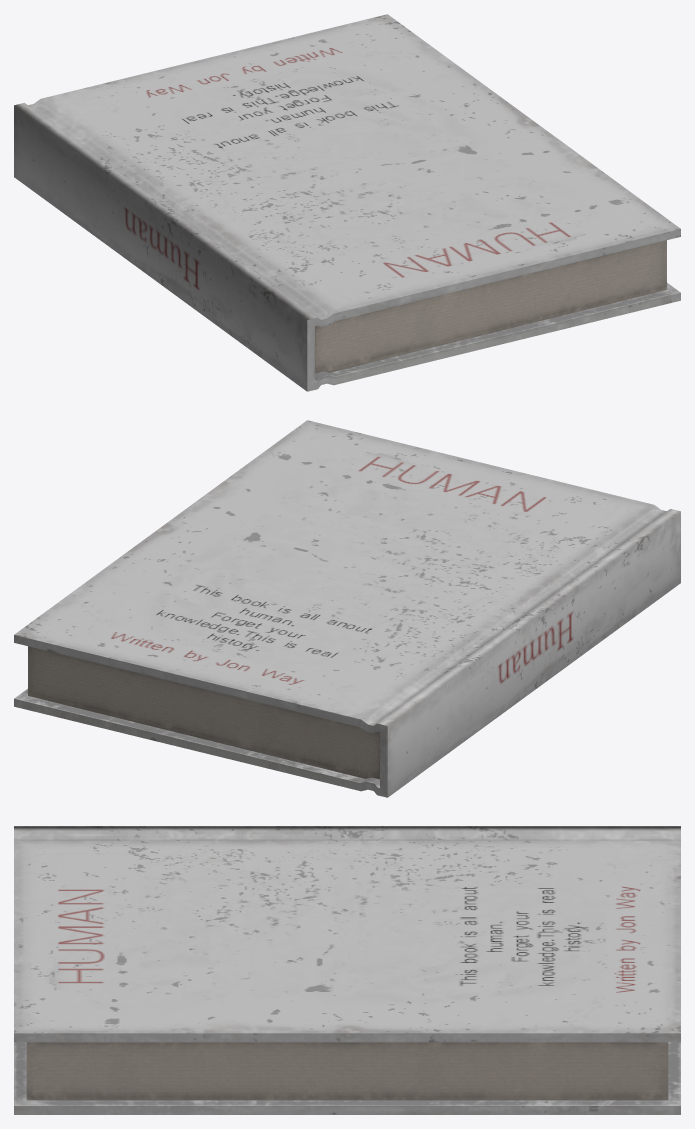
The model's file is SM_Book.fbx.
The picture shows the model from 3 angles, top to bottom: view 1: azimuth 30°, elevation 25°; view 2: azimuth 150°, elevation 25°; view 3: azimuth 270°, elevation 25°; orthographic projection. The views are drawn at different scales.
Visible parts, largest first — view 1: SM_Book_LOD0; view 2: SM_Book_LOD0; view 3: SM_Book_LOD0.
Part boxes in pixels (x1=…): SM_Book_LOD0: x1=14, y1=14, x2=680, y2=391; SM_Book_LOD0: x1=14, y1=420, x2=680, y2=797; SM_Book_LOD0: x1=14, y1=826, x2=680, y2=1114.
Size of the model in its own units: 23.13 by 31.44 by 4.25.
